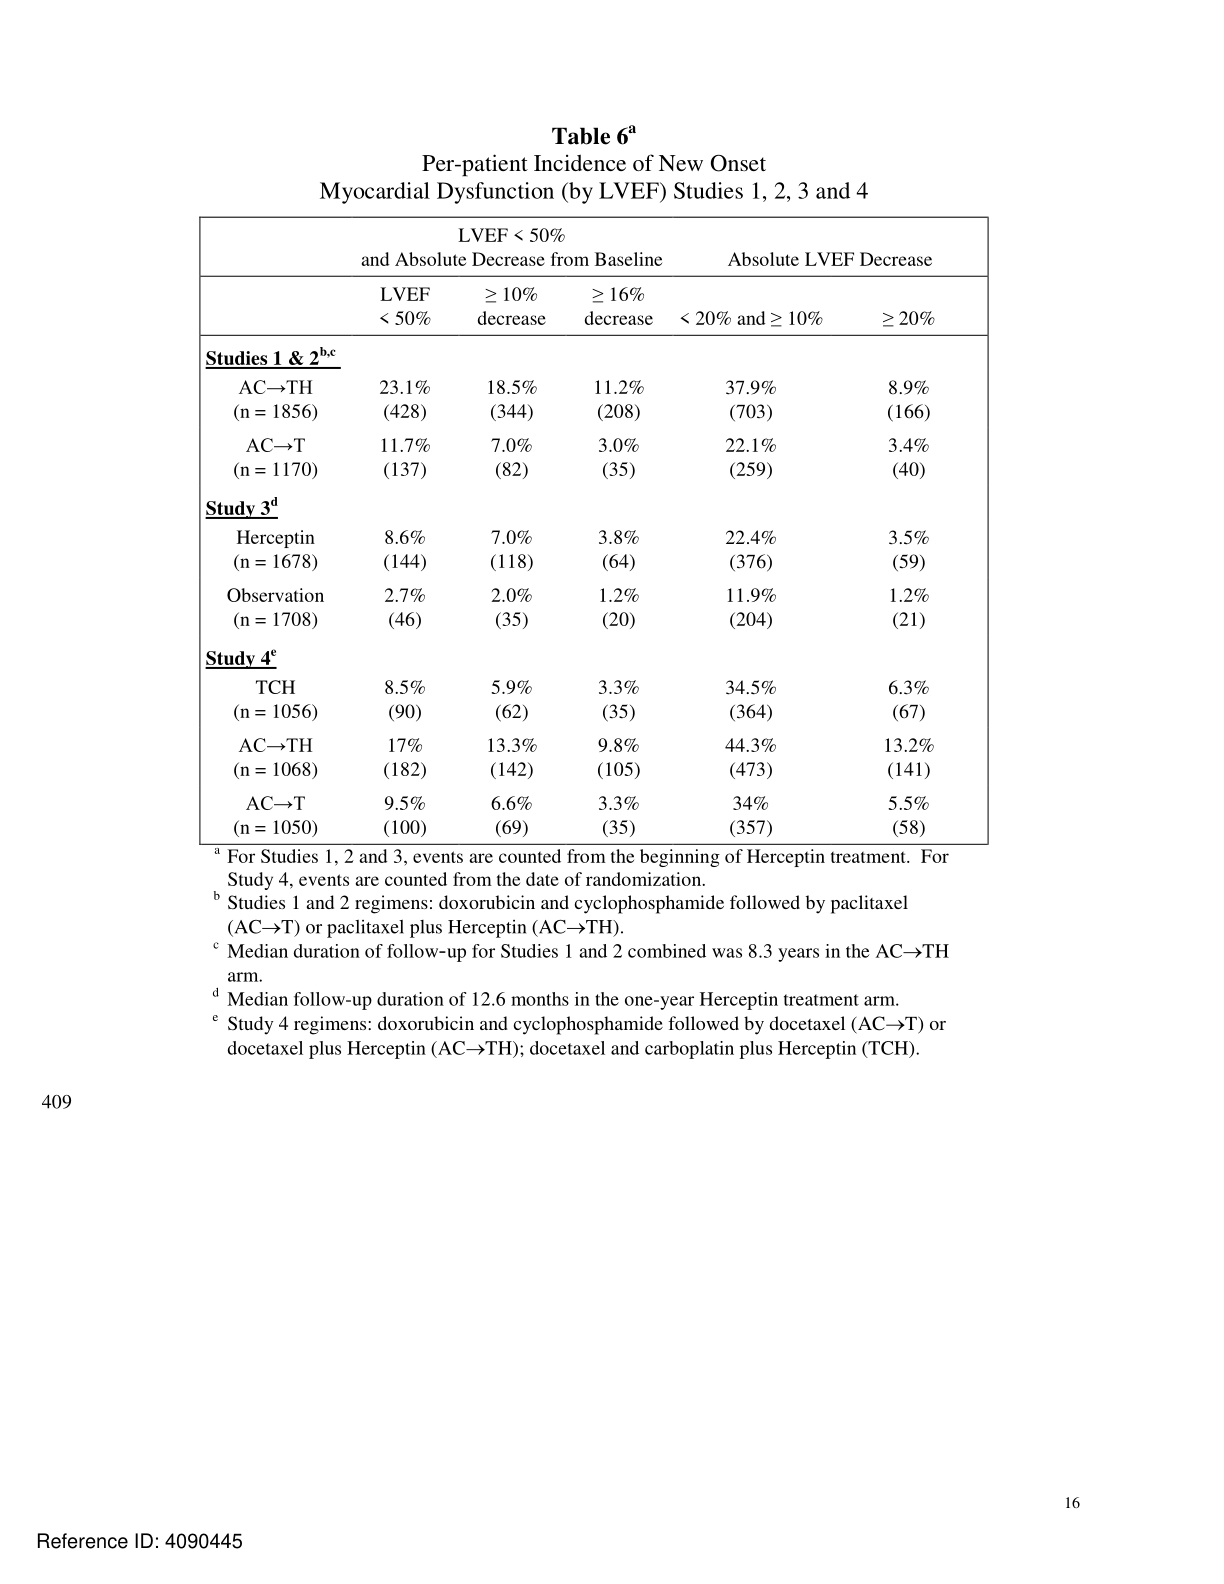partial_lined_merged_cells: (195, 213, 991, 849)
